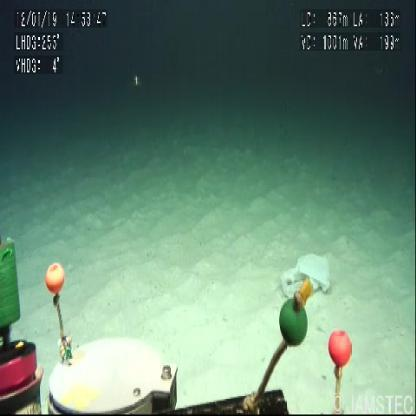Rác: (277, 254, 332, 304)
